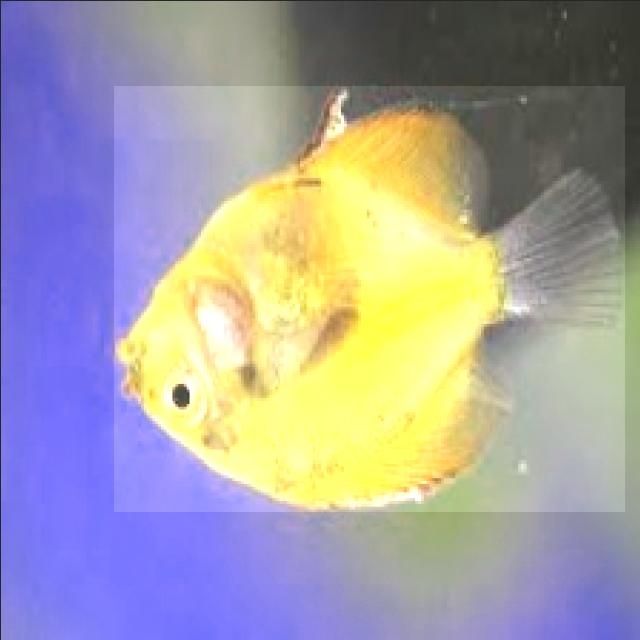Gill Disease: (113, 85, 624, 511)
